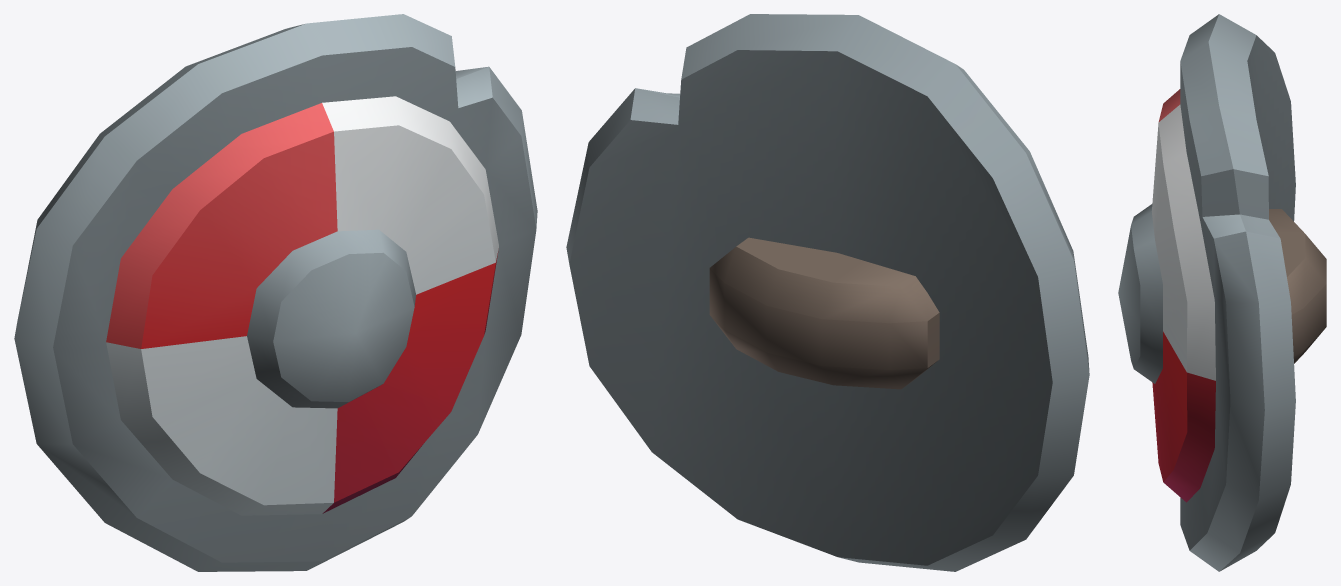
The model's file is shield_round_color.glb.
The picture shows the model from 3 angles, left to right: view 1: azimuth 30°, elevation 25°; view 2: azimuth 150°, elevation 25°; view 3: azimuth 270°, elevation 25°; orthographic projection. The views are drawn at different scales.
Bounding box in the file's own units: 0.8826 × 0.8826 × 0.332.
Materials: 1 (1 with a texture image).
